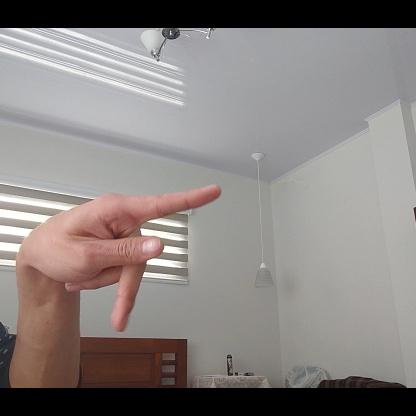P: (22, 182, 224, 331)
